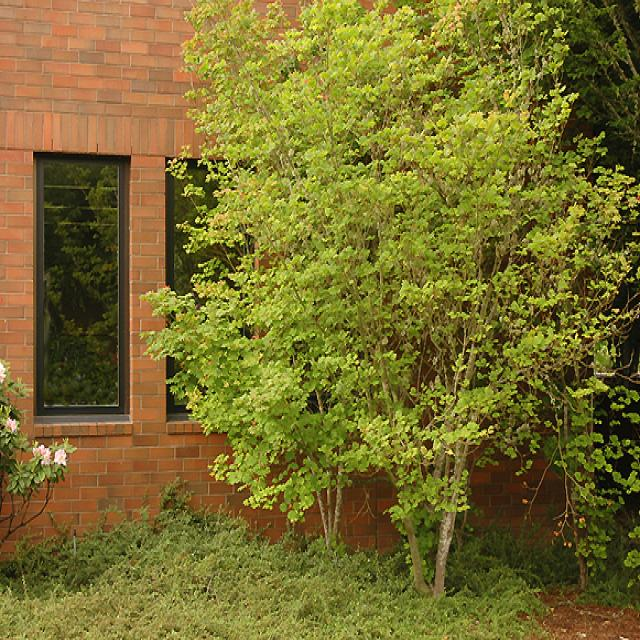Acer circinatum: (281, 0, 614, 569), (183, 5, 400, 561)
